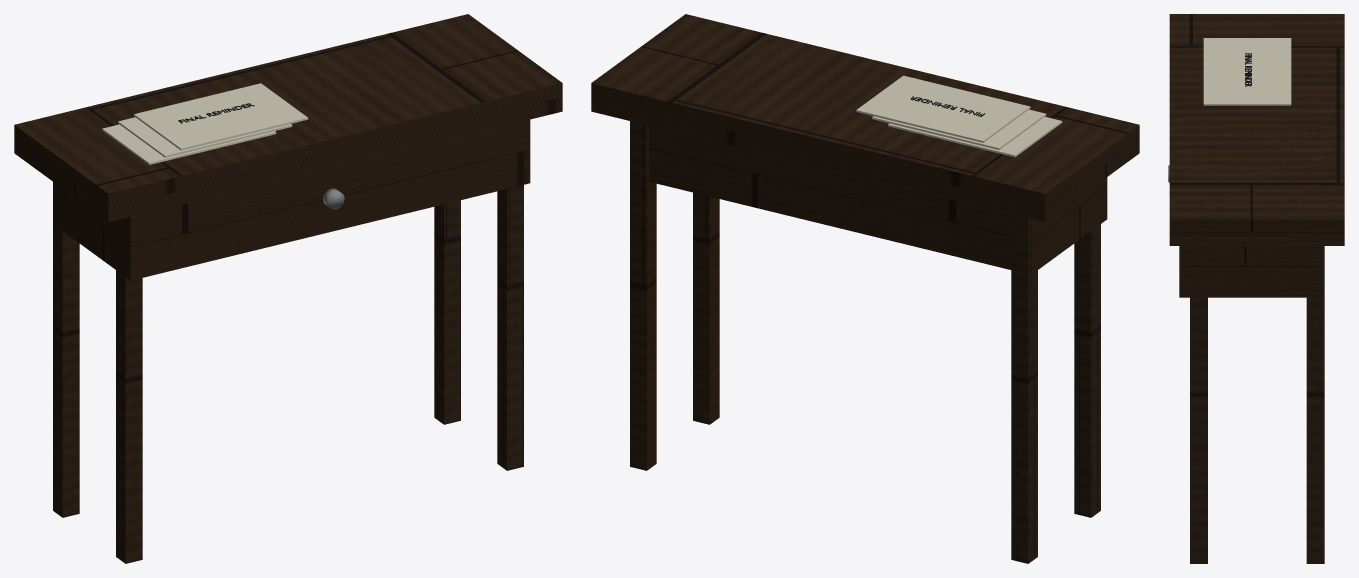
Rendered from hall-table.glb.
3 views of the same model, side by side, from view 1: azimuth 30°, elevation 25°; view 2: azimuth 150°, elevation 25°; view 3: azimuth 270°, elevation 25° (orthographic). The views are drawn at different scales.
Parts seen in each view (by area): view 1: Tabletop, Drawer, Tapered leg.001, Tapered leg, Tapered leg.002, Unopened bill.002, Tapered leg.003, Unopened bill, Unopened bill.001; view 2: Tabletop, Drawer, Tapered leg.001, Tapered leg.003, Tapered leg, Unopened bill.002, Tapered leg.002, Unopened bill, Unopened bill.001; view 3: Tabletop, Drawer, Tapered leg.003, Unopened bill.002, Tapered leg.002, Unopened bill, Unopened bill.001.
Boxes of the visible parts, <box> form: Tabletop: <box>14,14,562,222</box>; Drawer: <box>54,119,530,280</box>; Tapered leg.001: <box>53,182,79,517</box>; Tapered leg: <box>116,270,142,563</box>; Tapered leg.002: <box>497,185,523,470</box>; Unopened bill.002: <box>134,83,308,150</box>; Tapered leg.003: <box>434,200,460,424</box>; Unopened bill: <box>102,124,276,164</box>; Unopened bill.001: <box>118,117,292,157</box>; Tabletop: <box>591,14,1139,222</box>; Drawer: <box>649,125,1107,274</box>; Tapered leg.001: <box>1011,214,1037,563</box>; Tapered leg.003: <box>630,121,656,470</box>; Tapered leg: <box>1074,224,1100,517</box>; Unopened bill.002: <box>856,75,1030,142</box>; Tapered leg.002: <box>693,192,719,424</box>; Unopened bill: <box>888,117,1062,157</box>; Unopened bill.001: <box>872,109,1046,149</box>; Tabletop: <box>1169,14,1344,245</box>; Drawer: <box>1179,246,1320,297</box>; Tapered leg.003: <box>1306,246,1324,563</box>; Unopened bill.002: <box>1203,46,1291,105</box>; Tapered leg.002: <box>1190,297,1207,563</box>; Unopened bill: <box>1203,38,1291,42</box>; Unopened bill.001: <box>1203,42,1291,46</box>.
Size of the model in its own units: 1 by 0.8377 by 0.363.
Materials: 4 (1 with a texture image).
